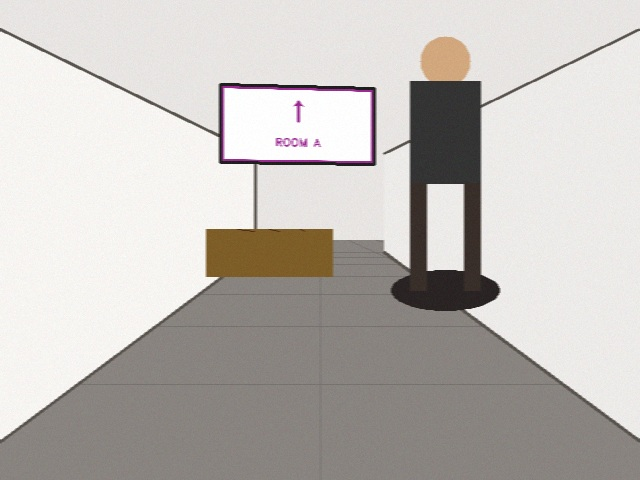directional_sign: (220, 84, 374, 164)
pallet: (206, 229, 332, 276)
person: (395, 36, 495, 290)
